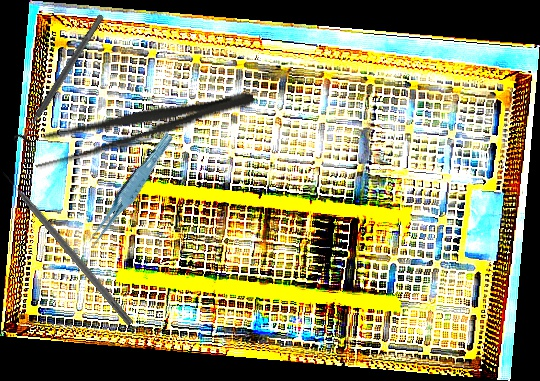Dressing Forceps: (28, 79, 258, 174)
Fixation Ring: (11, 9, 112, 152)
Hook Surgical: (0, 168, 136, 327)
Tissue Forceps: (77, 131, 182, 250)
